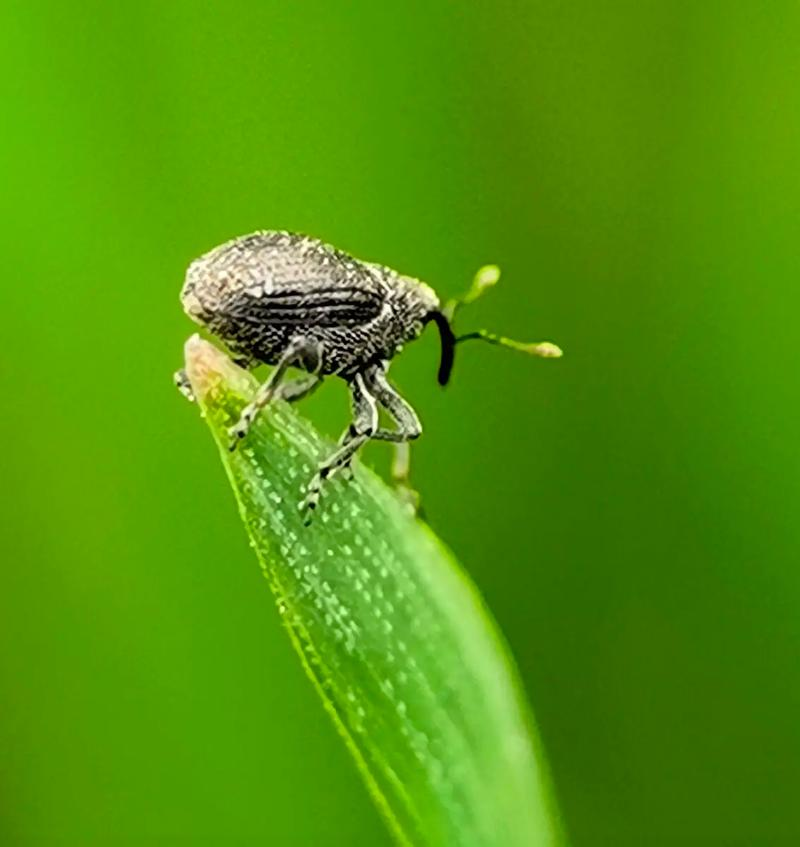Curculionidae: (171, 227, 565, 527)
